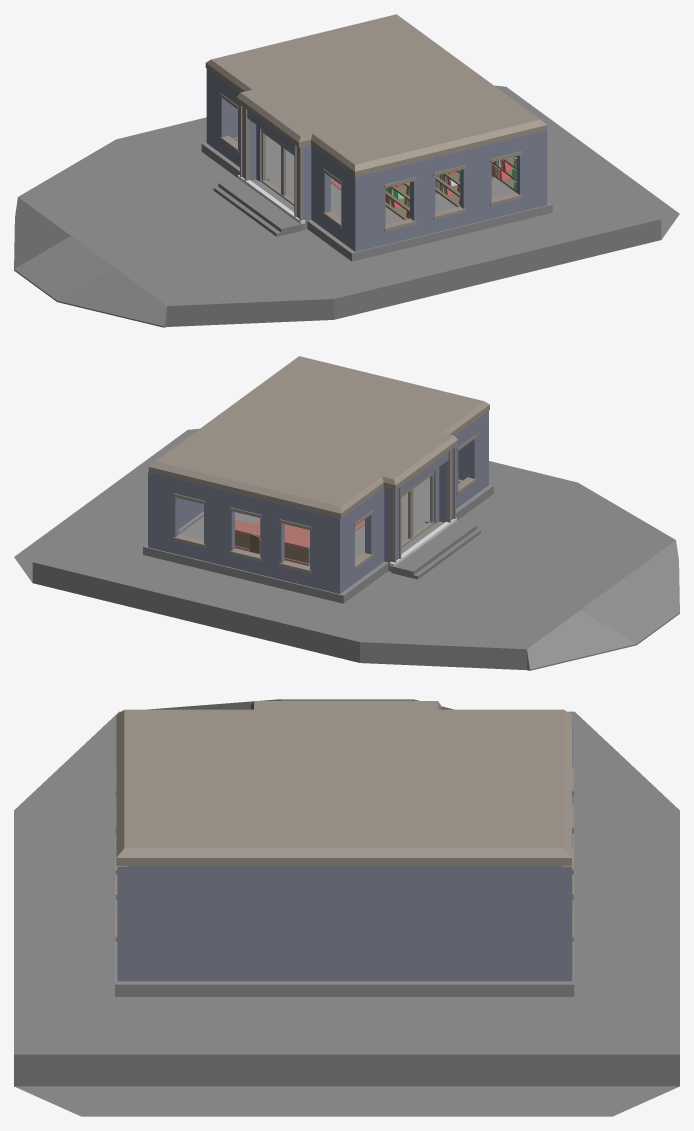
The model's file is building.fbx.
The picture shows the model from 3 angles, top to bottom: view 1: azimuth 30°, elevation 25°; view 2: azimuth 150°, elevation 25°; view 3: azimuth 270°, elevation 25°; orthographic projection. The views are drawn at different scales.
Parts seen in each view (by area): view 1: Плоскость, Куб, Куб.001, Куб.202, Куб.011, Куб.050, Куб.112, Куб.012; view 2: Плоскость, Куб, Куб.001, Куб.202, Куб.011, Куб.306, Куб.308, Куб.012; view 3: Плоскость, Куб, Куб.001, Куб.202.
Boxes of the visible parts, bbox=[...] form: Плоскость: bbox=[14, 85, 679, 327]; Куб: bbox=[205, 14, 547, 176]; Куб.001: bbox=[206, 69, 547, 251]; Куб.202: bbox=[201, 93, 552, 261]; Куб.011: bbox=[218, 178, 303, 235]; Куб.050: bbox=[385, 156, 516, 219]; Куб.112: bbox=[385, 159, 512, 218]; Куб.012: bbox=[213, 186, 281, 236]; Плоскость: bbox=[14, 428, 679, 670]; Куб: bbox=[148, 356, 489, 518]; Куб.001: bbox=[148, 411, 488, 593]; Куб.202: bbox=[143, 434, 493, 603]; Куб.011: bbox=[391, 521, 476, 578]; Куб.306: bbox=[235, 519, 309, 550]; Куб.308: bbox=[235, 532, 309, 563]; Куб.012: bbox=[413, 529, 480, 579]; Плоскость: bbox=[14, 699, 679, 1116]; Куб: bbox=[116, 701, 571, 865]; Куб.001: bbox=[117, 724, 572, 981]; Куб.202: bbox=[115, 767, 574, 996].
Size of the model in its own units: 2225 by 437 by 1507.
